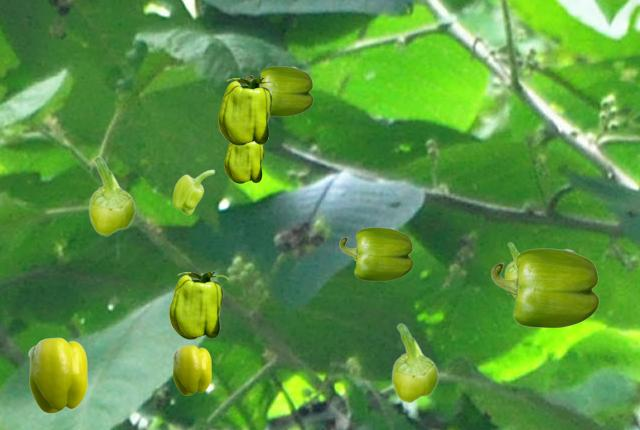bell_pepper: (491, 248, 598, 327), (28, 337, 86, 412), (339, 227, 412, 280), (218, 78, 276, 144), (169, 272, 227, 338), (391, 323, 438, 402), (88, 156, 135, 235), (246, 66, 312, 115), (172, 169, 214, 214), (172, 345, 210, 394), (224, 142, 265, 182), (504, 242, 519, 278)
